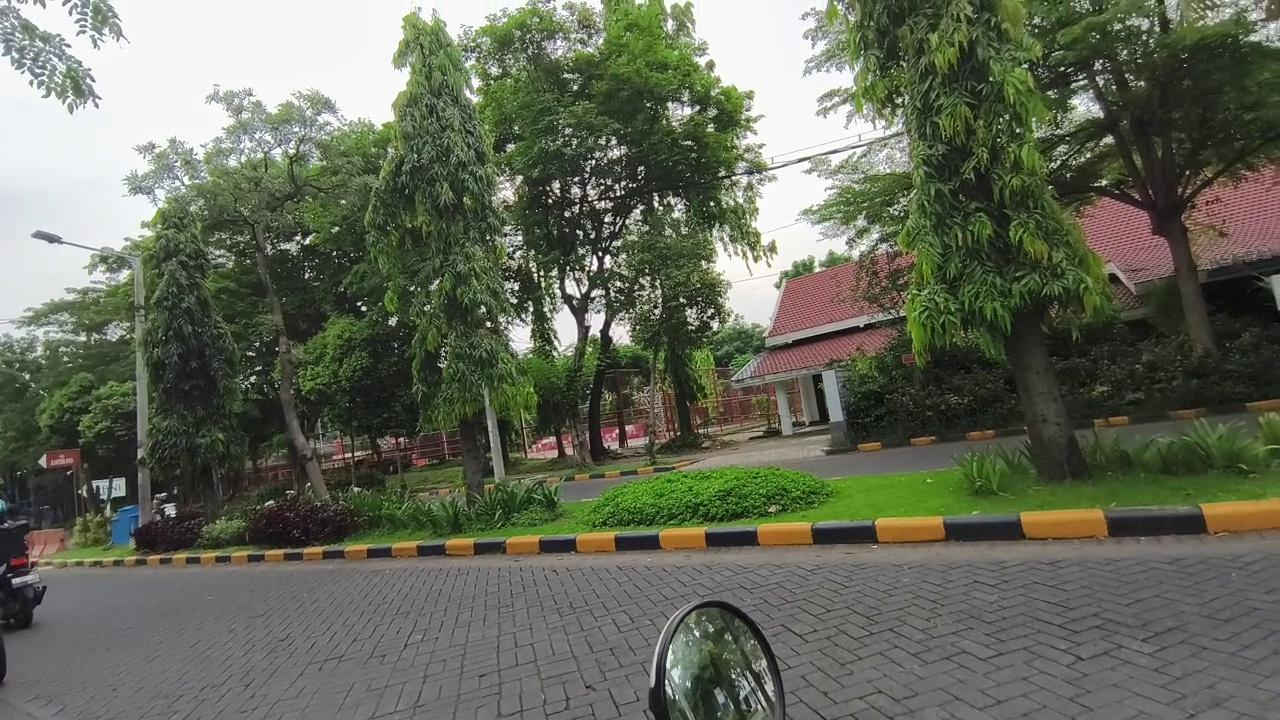Motor: (0, 521, 46, 628)
